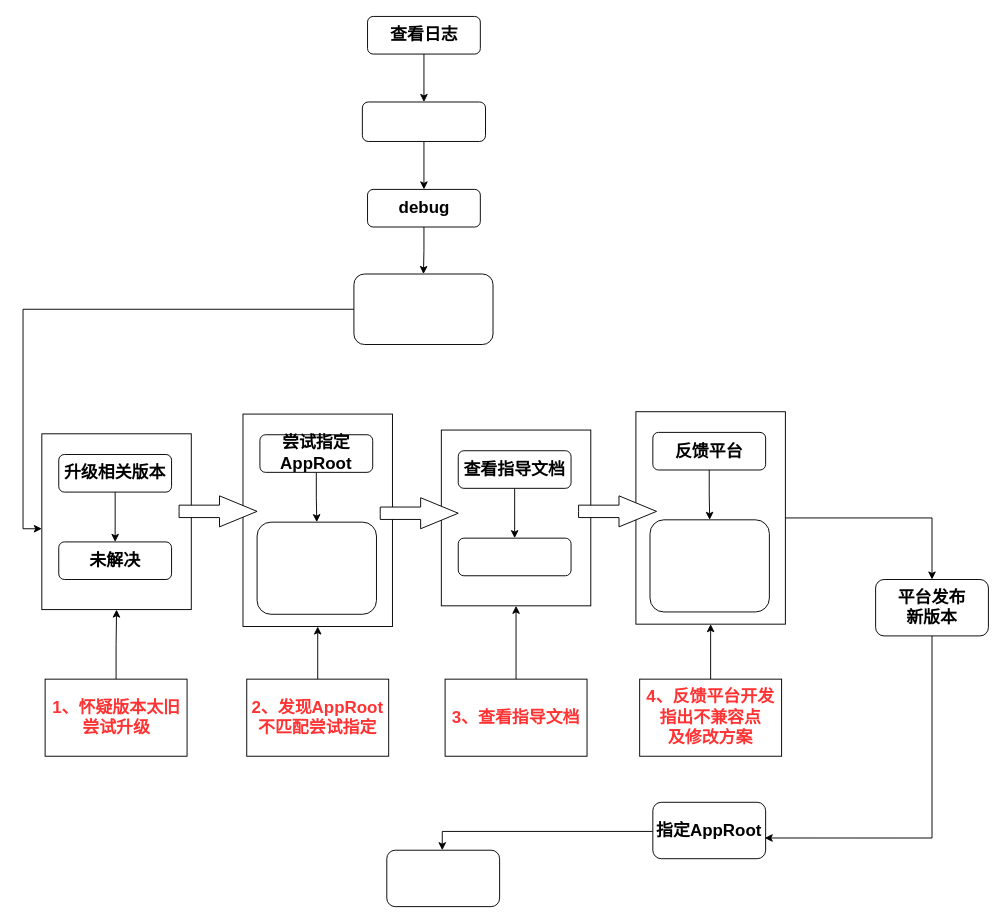
This 1005x923 diagram has some shape labels left out. The shapes that lost their labels are listed below. From the top down, each one's centre as x and y in pixels, then its label:
At [423,121]: "方法返回值 不符合预期".
At [423,309]: "AppRoot不匹配文件绝对前缀导致 文件读取失败".
At [316,567]: "运行时AppRoot被覆盖导致指定不生效".
At [514,556]: "无相关描述".
At [709,565]: "平台开发 业务自定义AppRoot特性".
At [443,878]: "解决".
